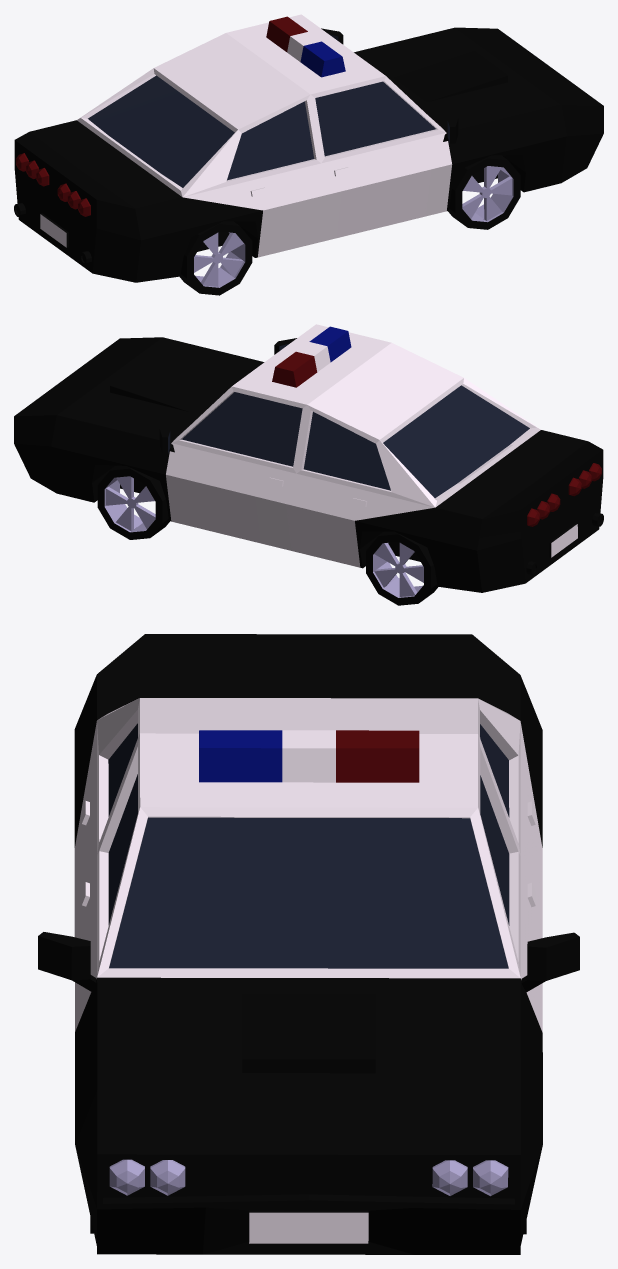
File: car2.obj
3 views of the same model, one above another, from view 1: azimuth 30°, elevation 25°; view 2: azimuth 150°, elevation 25°; view 3: azimuth 270°, elevation 25° (orthographic). The views are drawn at different scales.
Parts seen in each view (by area): view 1: Police_Muscle; view 2: Police_Muscle; view 3: Police_Muscle.
Boxes of the visible parts, <box> form: Police_Muscle: <box>14,14,603,295</box>; Police_Muscle: <box>14,324,603,605</box>; Police_Muscle: <box>38,634,579,1254</box>.
Bounding box in the file's own units: 3.63 × 1.26 × 1.69.
